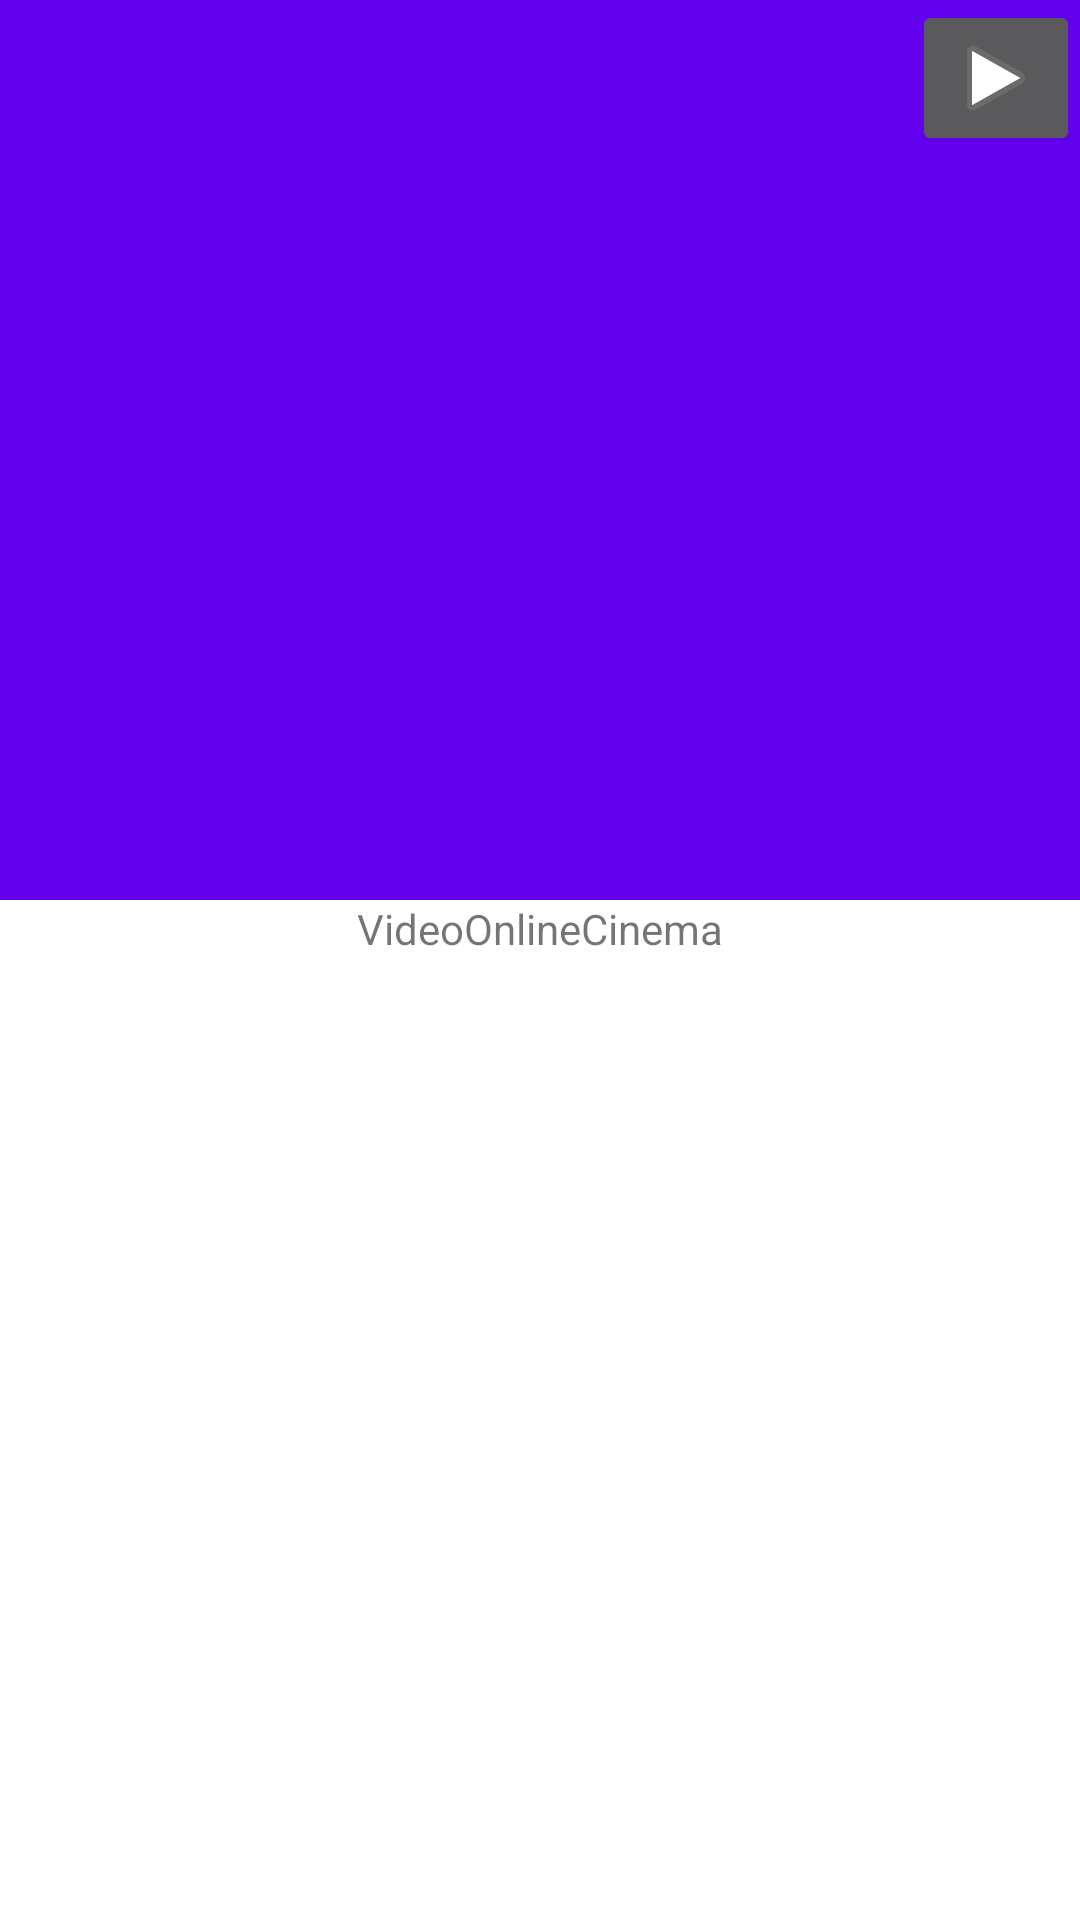

Icons on this 1080 × 1920 Android screen, each with the point to tap as [x,y]:
play: [996,78]
